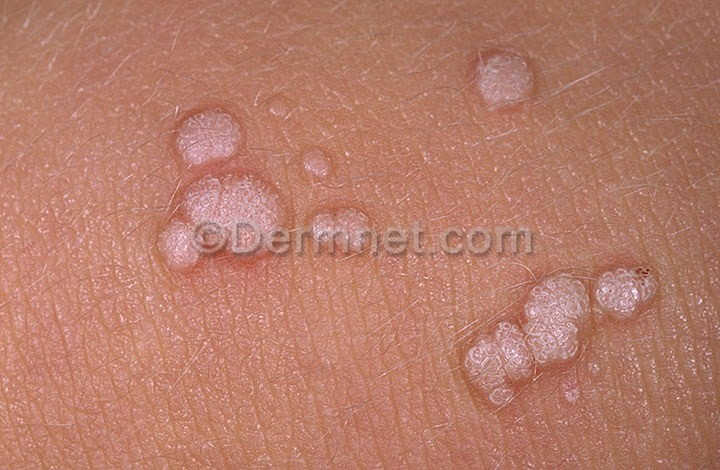Warts: (460, 256, 667, 420), (166, 99, 250, 166), (470, 40, 545, 115)
